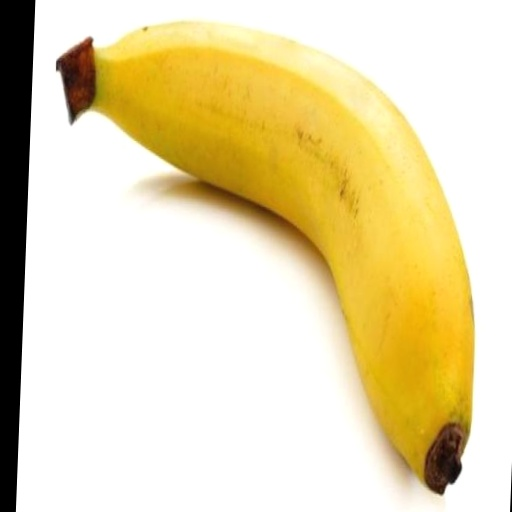fruit: (56, 23, 473, 493)
